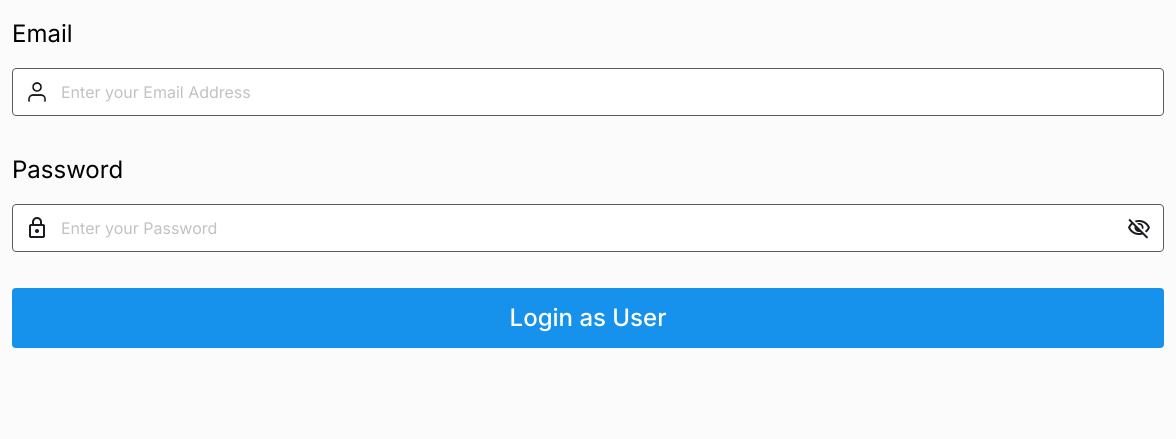
Account access UI integration › shows a sign-in error when credentials are invalid
In the field labelled "Email": (606, 92) [61,80,1151,104], type "invalid@concert-wow.test"
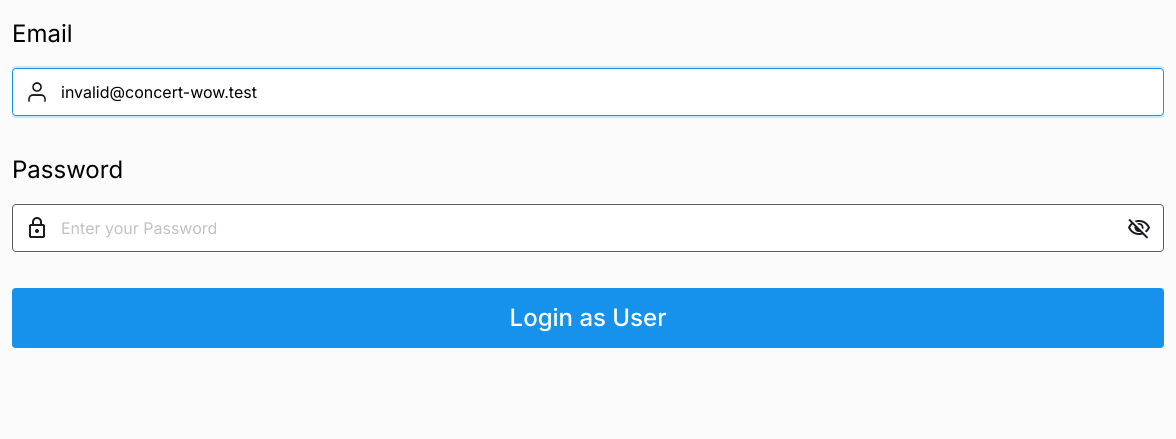
In the password field labelled "Password": (588, 228) [61,216,1115,240], type "Password123!"
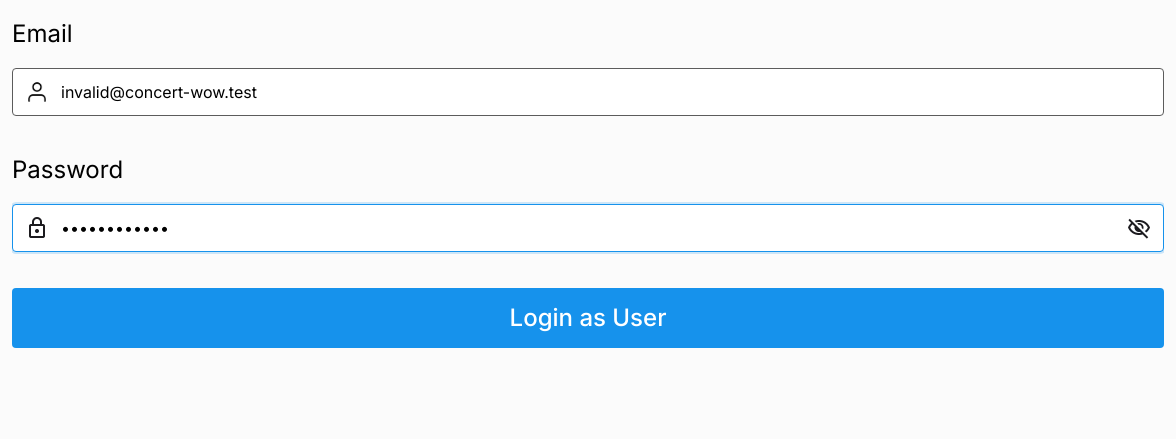
Click the button "Login as User": (588, 318) [12,288,1164,348]
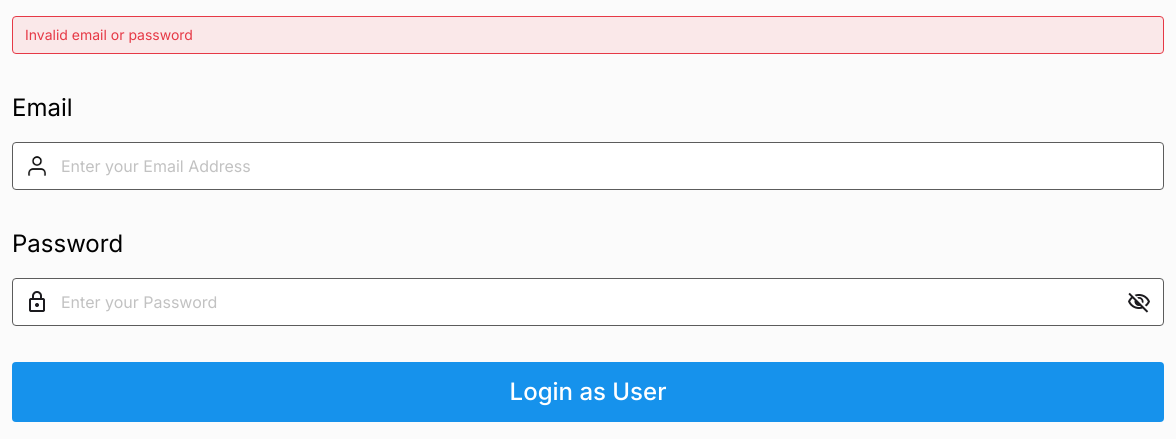
Check: the message reads "Invalid email or password", box [25,26,193,43]
